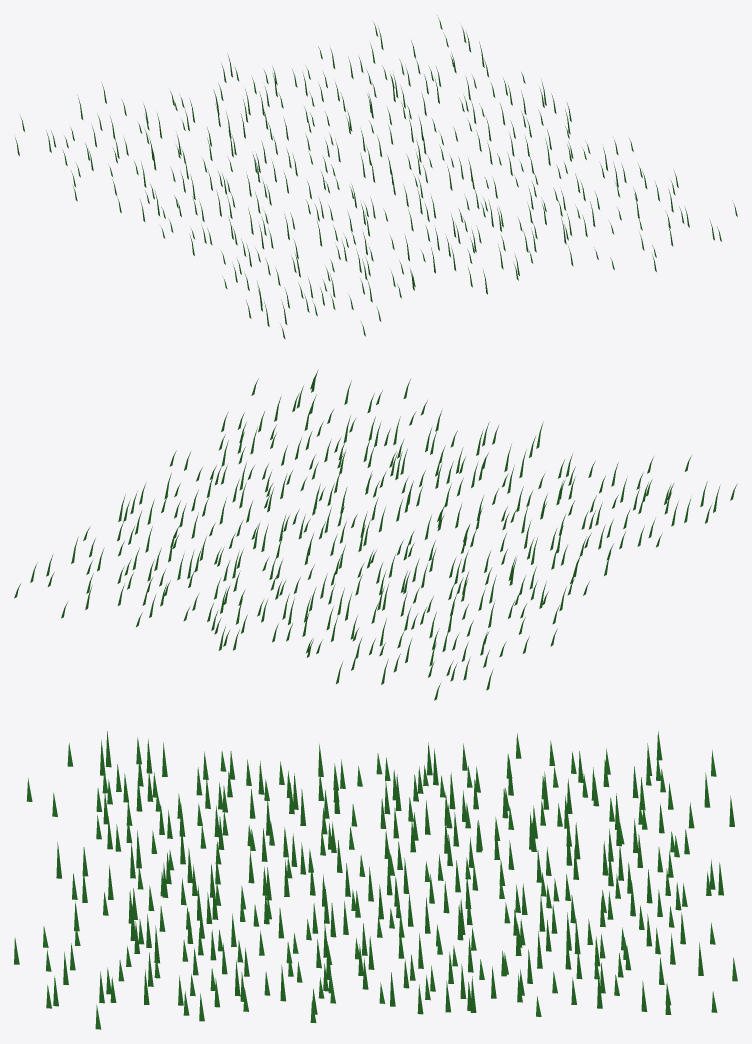
Rendered from grass_patch_set_B_ori.fbx.
The picture shows the model from 3 angles, top to bottom: view 1: azimuth 30°, elevation 25°; view 2: azimuth 150°, elevation 25°; view 3: azimuth 270°, elevation 25°; orthographic projection. The views are drawn at different scales.
Size of the model in its own units: 857 by 54.32 by 956.
